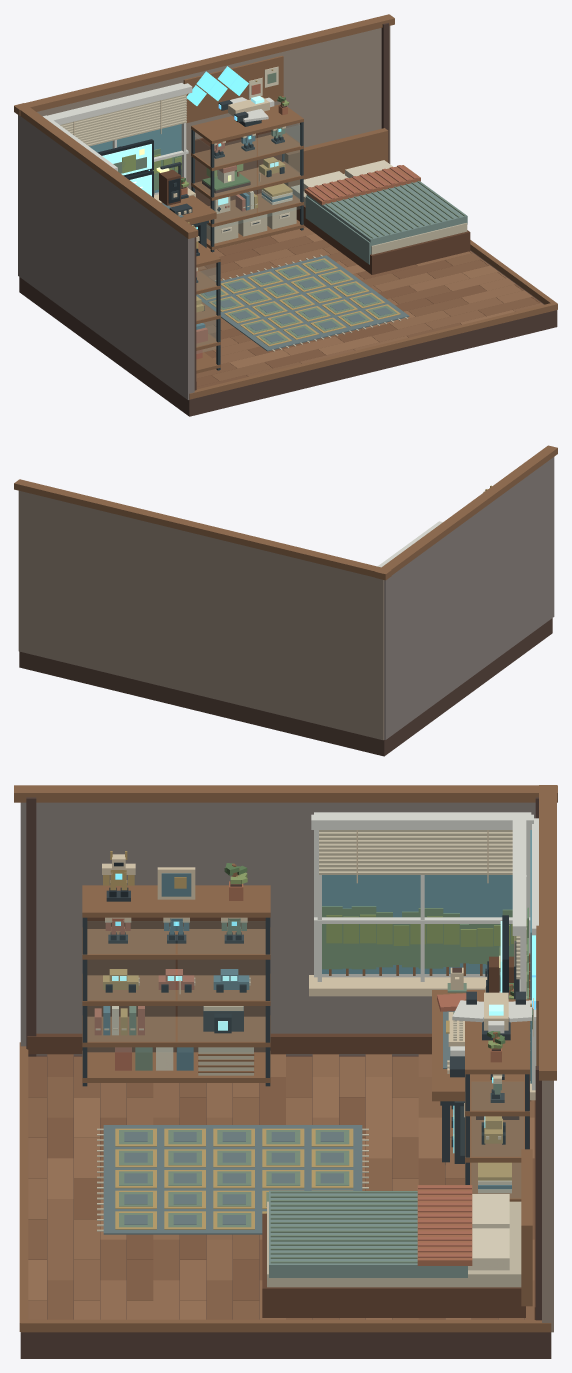
File: octopus-room.glb
3 renders of one model, top to bottom at view 1: azimuth 30°, elevation 25°; view 2: azimuth 150°, elevation 25°; view 3: azimuth 270°, elevation 25°, orthographic. The views are drawn at different scales.
Parts seen in each view (by area): view 1: Left plaster, Back plaster, Foundation, Back crown, Striped duvet, Room geometric rug, Front floor trim, Bed headboard, Display front glass.003, Display front glass.002, Left crown, Low bed frame (+20 smaller); view 2: Back plaster, Left plaster, Foundation, Back crown, Left crown; view 3: Left plaster, Foundation, Striped duvet, Display front glass, Display front glass.001, Left crown, Room geometric rug, Low bed frame, Window garden sky.001, Right floor trim, Cabinet backing, Back crown (+95 smaller).
Part boxes in pixels (x1,y1,x2,y2): Left plaster: [18, 115, 194, 399]; Back plaster: [37, 26, 390, 189]; Foundation: [19, 250, 557, 416]; Back crown: [14, 14, 394, 115]; Striped duvet: [306, 181, 467, 245]; Room geometric rug: [196, 255, 409, 351]; Front floor trim: [189, 303, 557, 399]; Bed headboard: [284, 128, 388, 187]; Display front glass.003: [258, 125, 300, 218]; Display front glass.002: [215, 136, 256, 228]; Left crown: [14, 103, 198, 238]; Low bed frame: [296, 205, 470, 274]; Back plaster: [18, 490, 384, 740]; Left plaster: [384, 457, 554, 739]; Foundation: [19, 618, 552, 756]; Back crown: [14, 479, 391, 579]; Left crown: [375, 445, 557, 580]; Left plaster: [20, 802, 535, 1055]; Foundation: [20, 1055, 551, 1358]; Striped duvet: [269, 1191, 467, 1277]; Display front glass: [88, 921, 174, 1051]; Display front glass.001: [178, 921, 264, 1051]; Left crown: [14, 785, 557, 802]; Room geometric rug: [103, 1125, 362, 1234]; Low bed frame: [262, 1213, 525, 1317]; Window garden sky.001: [322, 875, 512, 973]; Right floor trim: [20, 1319, 551, 1332]; Cabinet backing: [87, 917, 265, 1052]; Back crown: [539, 785, 556, 1080].
Size of the model in its own units: 10.2 by 4.83 by 8.2.
